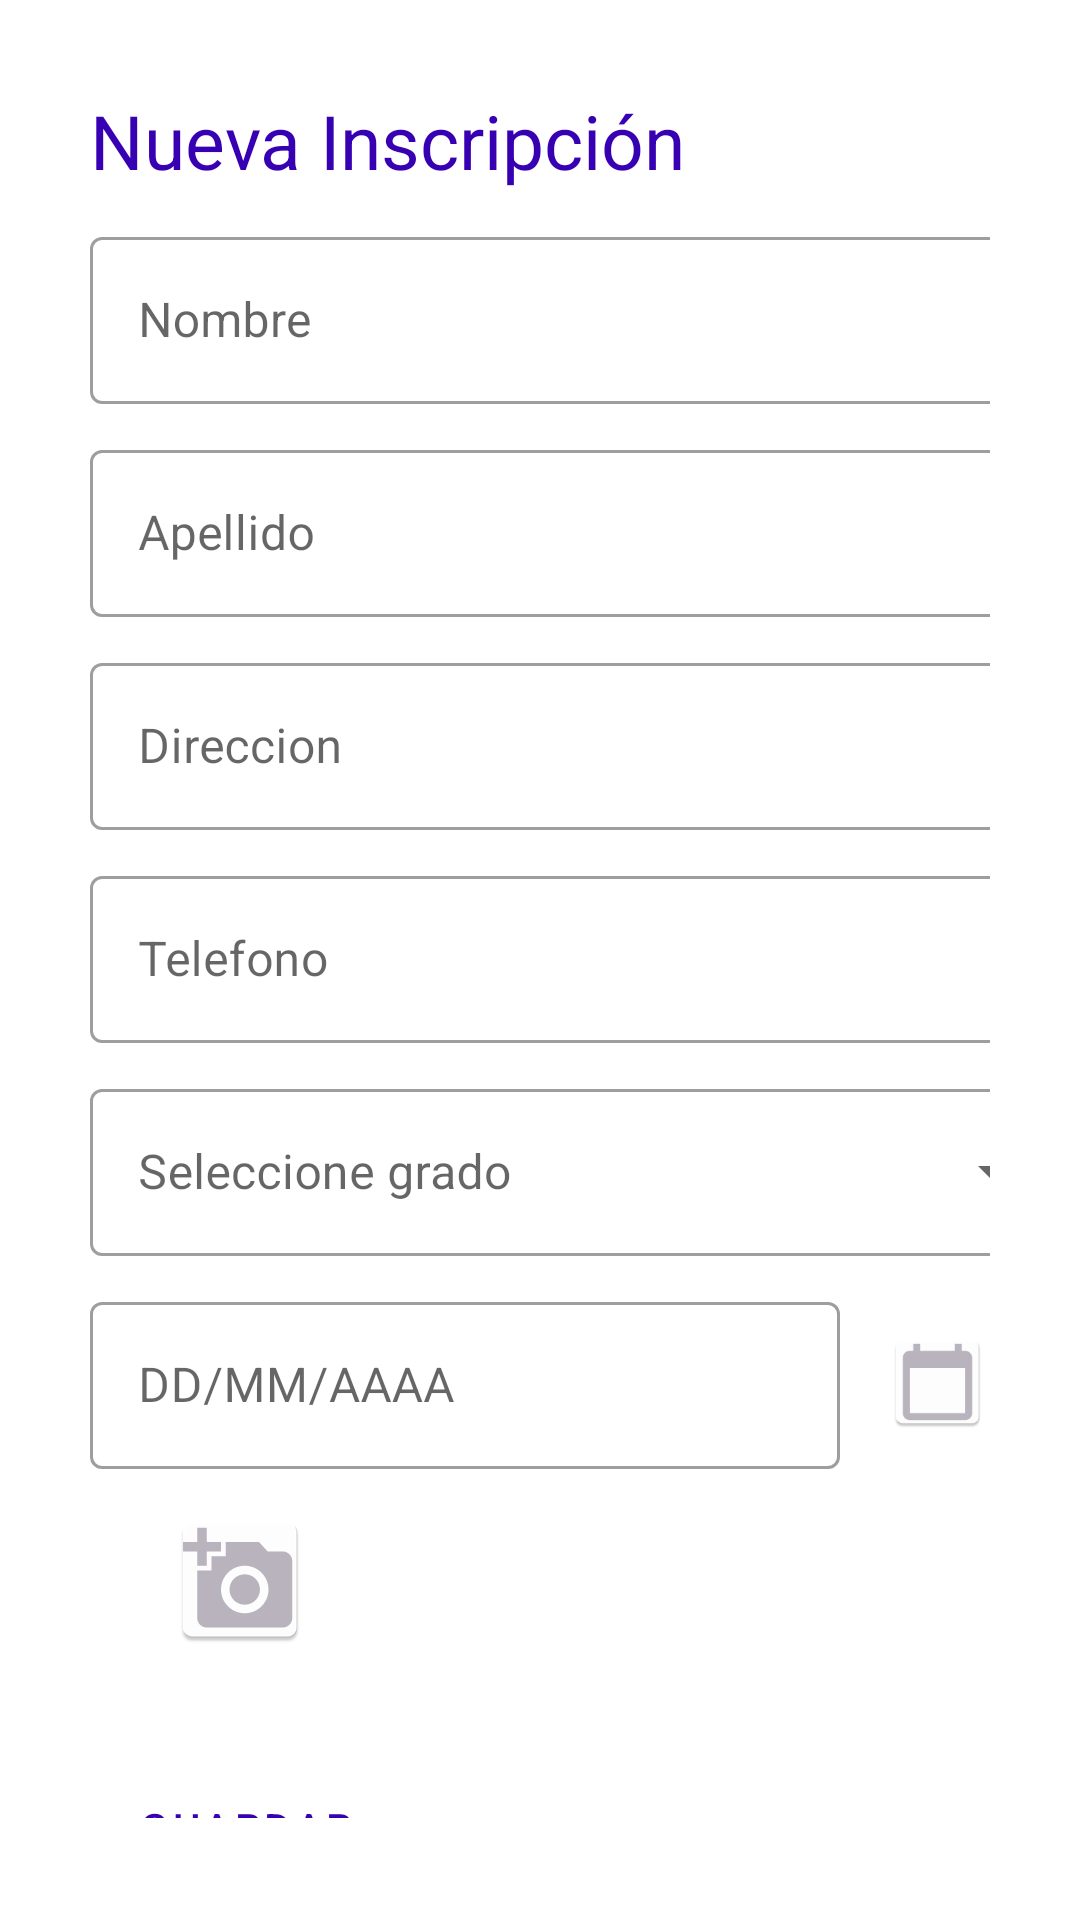

Icons on this 1080w x 1920h Android screen, each with its box as (x1, y1, x2, y2):
addphoto: (183, 1528, 298, 1641)
calendar: (896, 1344, 980, 1426)
